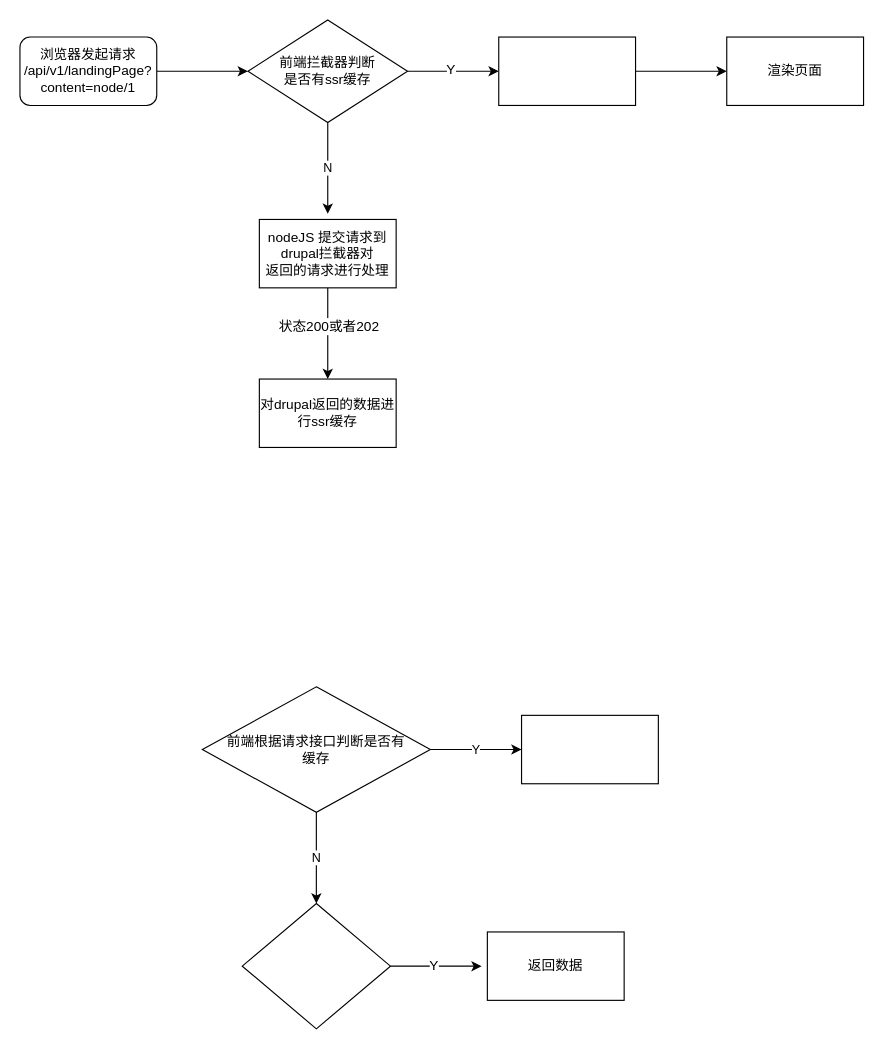
Some shapes in this 884 by 1049 pixel diagram are drawn without their labels. Each missing label, with the box of its shape:
到Drupal后端请求资源，是否成功: (241, 902, 390, 1029)
直接返回缓存的数据: (520, 714, 658, 784)
返回ssr state: (498, 36, 636, 105)
